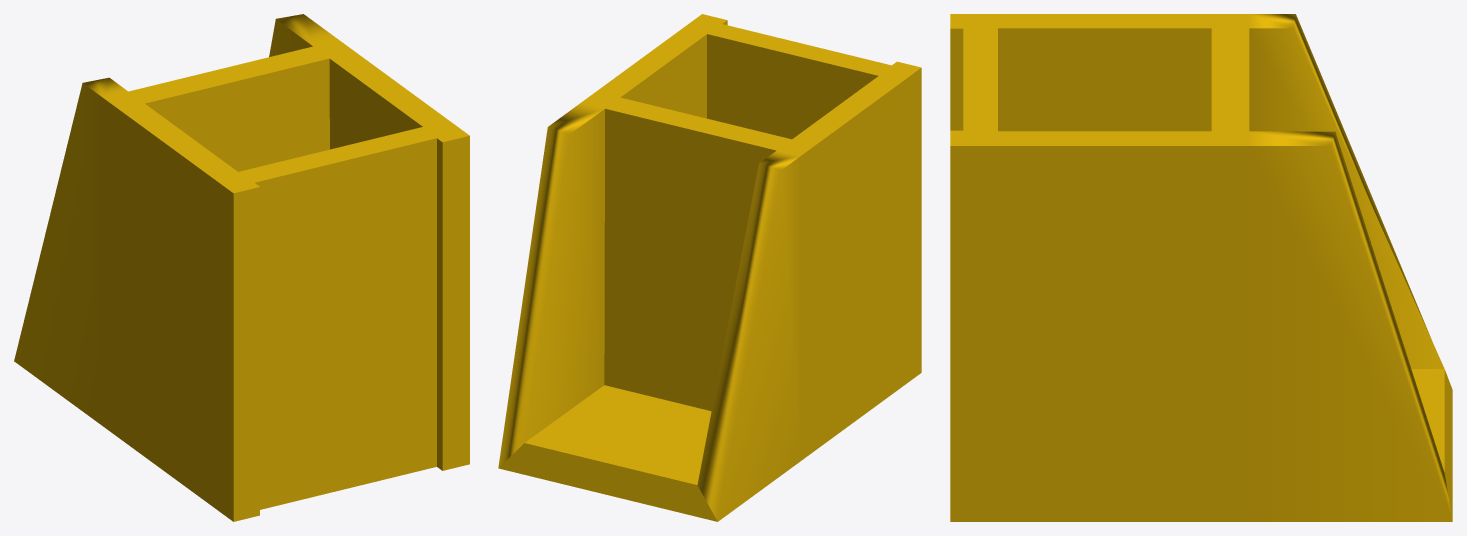
Rendered from Cinderblock_02_Lod0.fbx.
3 views of the same model, side by side, from view 1: azimuth 30°, elevation 25°; view 2: azimuth 150°, elevation 25°; view 3: azimuth 270°, elevation 25° (orthographic). The views are drawn at different scales.
Parts seen in each view (by area): view 1: Cinderblock_02_Lod0; view 2: Cinderblock_02_Lod0; view 3: Cinderblock_02_Lod0.
Part boxes in pixels (box(x1,y1,x2,y2)): Cinderblock_02_Lod0: box(14, 14, 469, 521); Cinderblock_02_Lod0: box(498, 14, 921, 521); Cinderblock_02_Lod0: box(950, 14, 1452, 521).
Bounding box in the file's own units: 20.09 × 26.69 × 32.33.
